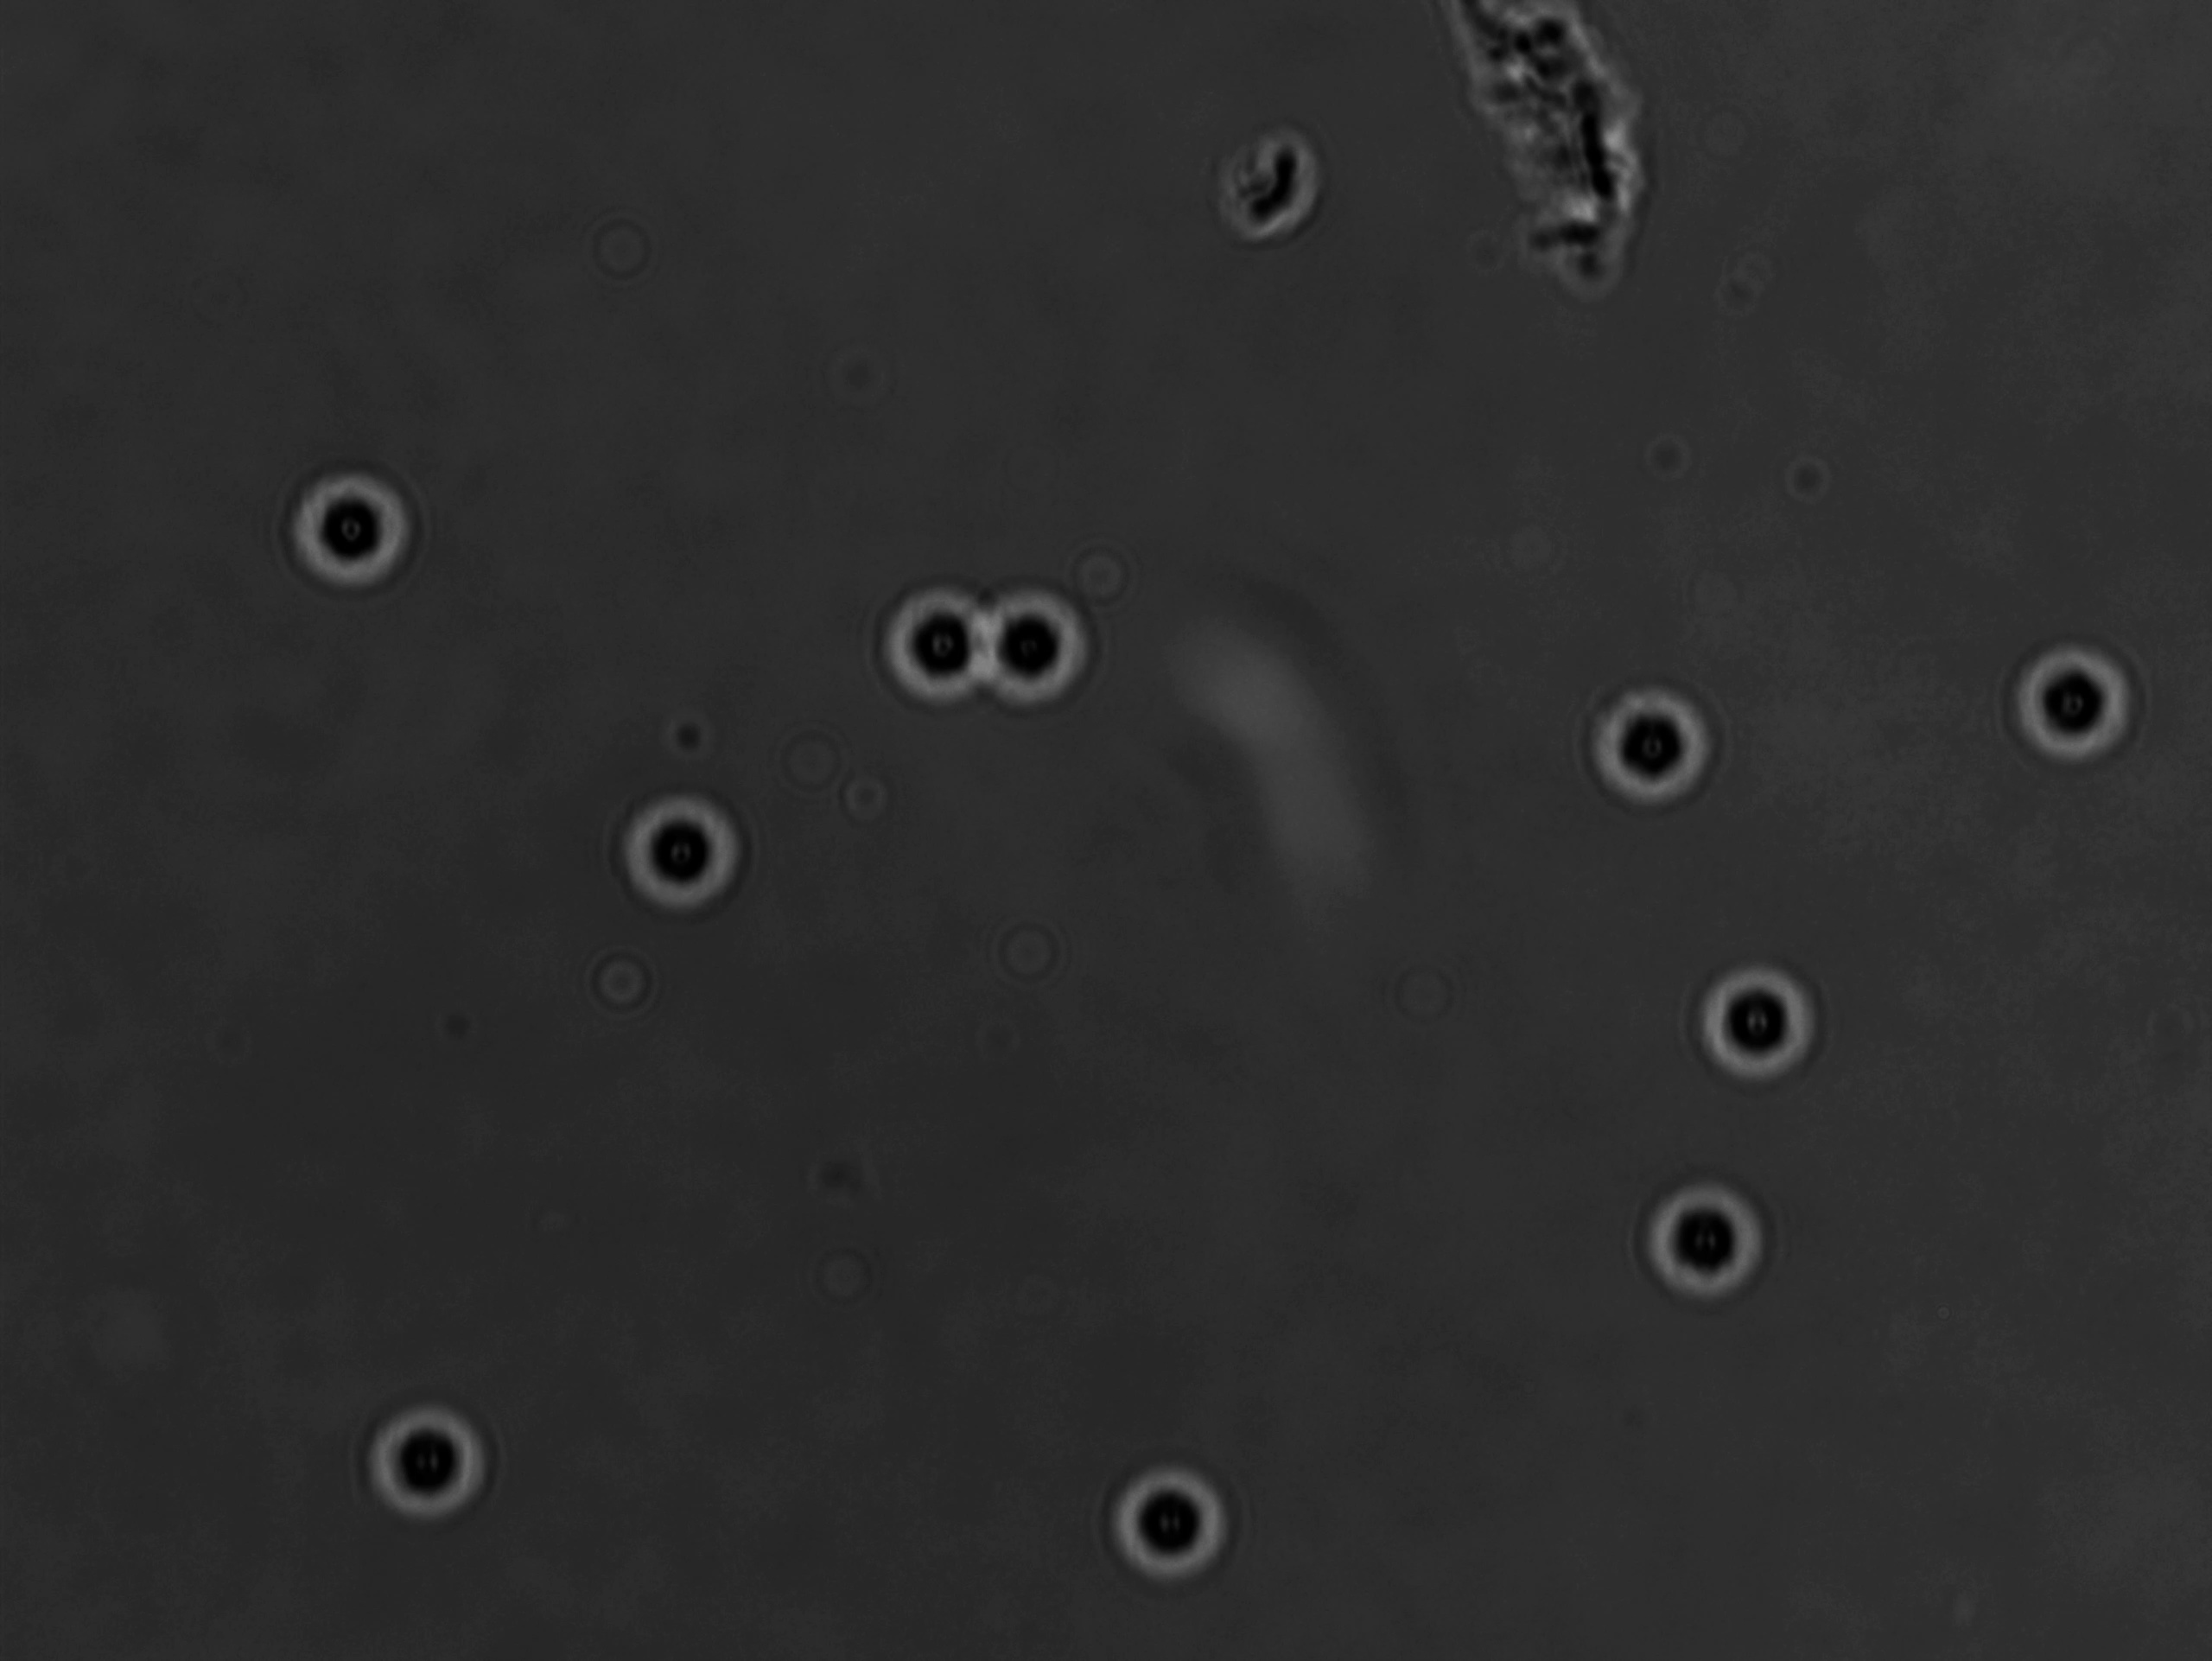depth:-20: (1994, 621, 2165, 790), (968, 553, 1129, 731), (1676, 940, 1844, 1108), (349, 1371, 520, 1535), (604, 764, 766, 937), (1570, 653, 1738, 818), (1617, 1160, 1788, 1319), (1099, 1434, 1265, 1595), (858, 557, 1019, 721), (276, 438, 433, 595)
